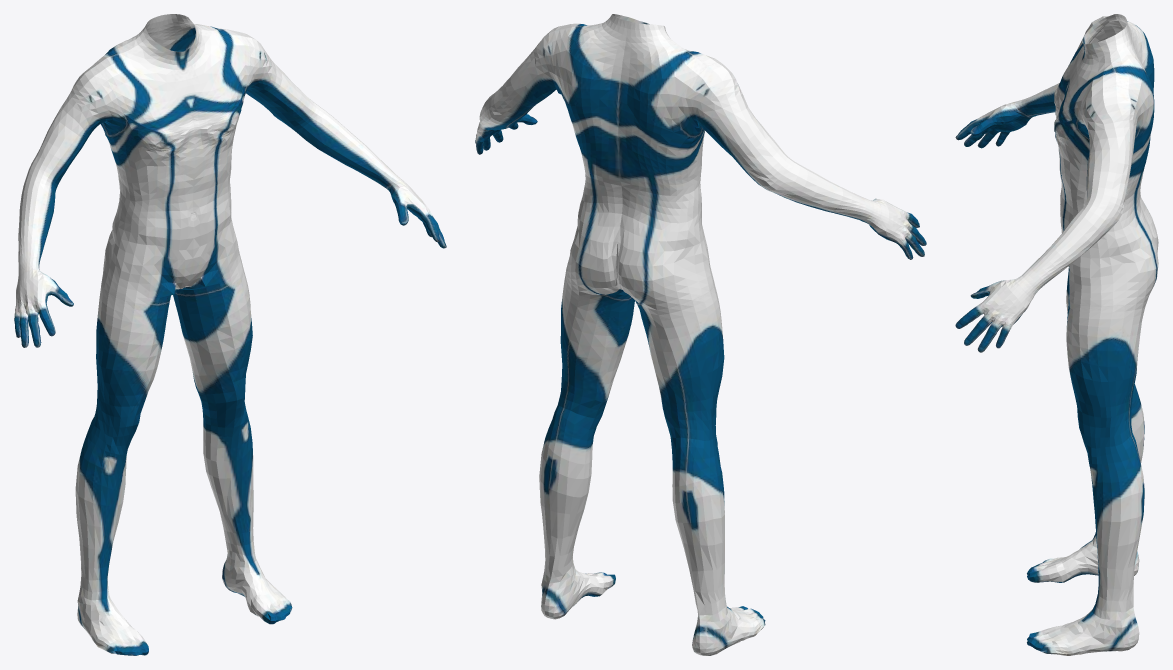
File: mhw_tiomegamanx_skintight_body_suit_female.glb
3 renders of one model, left to right at view 1: azimuth 30°, elevation 25°; view 2: azimuth 150°, elevation 25°; view 3: azimuth 270°, elevation 25°, orthographic. The views are drawn at different scales.
Parts seen in each view (by area): view 1: mhw_tiomegamanx_skintight_body_suit_female; view 2: mhw_tiomegamanx_skintight_body_suit_female; view 3: mhw_tiomegamanx_skintight_body_suit_female.
Part boxes in pixels (x1=…): mhw_tiomegamanx_skintight_body_suit_female: x1=14, y1=14, x2=446, y2=655; mhw_tiomegamanx_skintight_body_suit_female: x1=475, y1=14, x2=926, y2=655; mhw_tiomegamanx_skintight_body_suit_female: x1=955, y1=14, x2=1158, y2=655.
Bounding box in the file's own units: 1.22 × 1.63 × 0.5072.
1 material, 1 textured.
